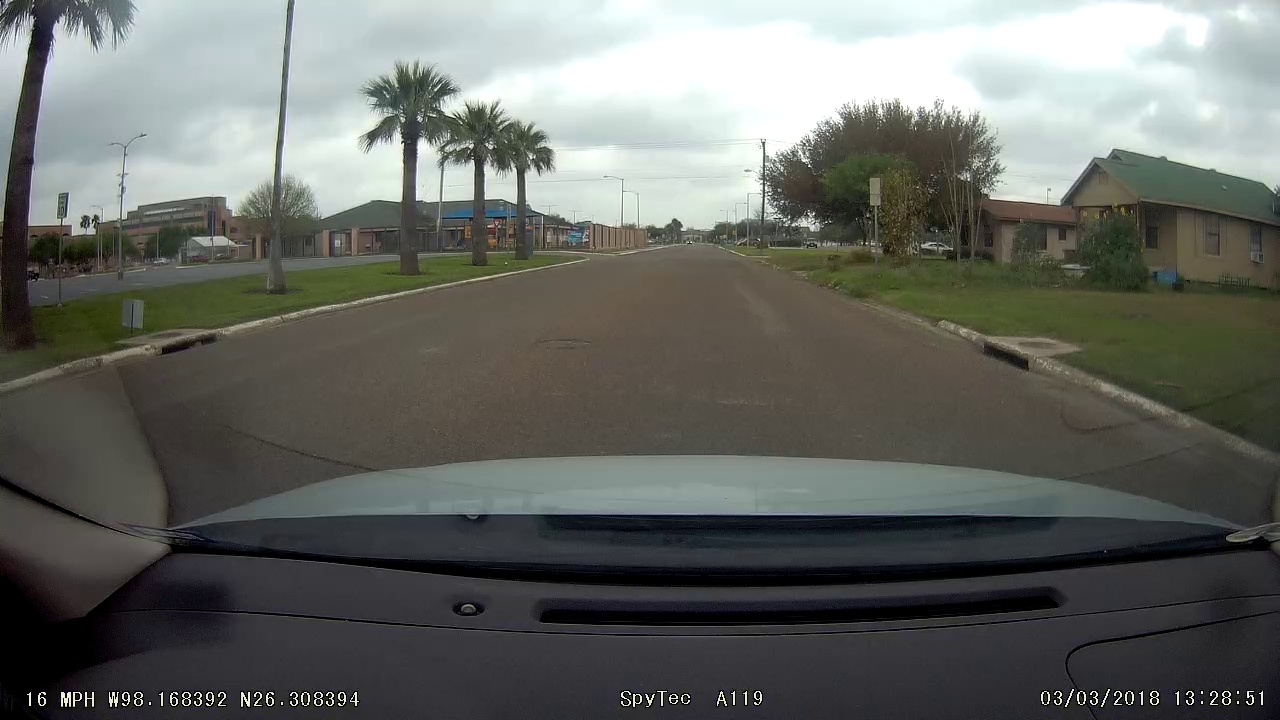manhole: (530, 331, 597, 354)
